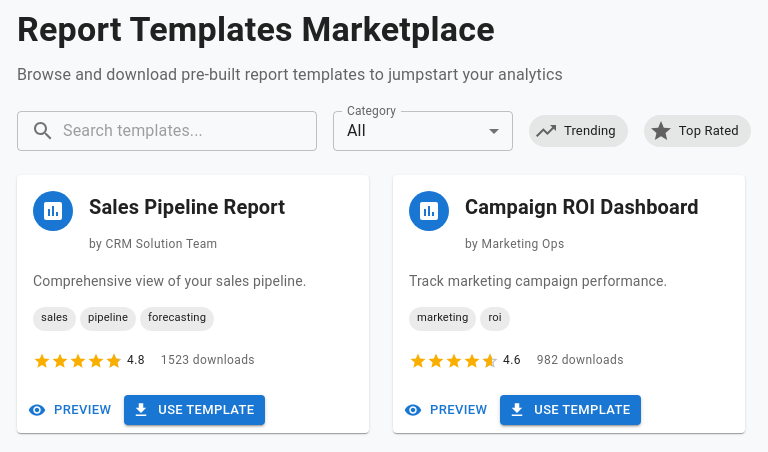
Test case: ReportTemplatesPage › filters templates by search query
Expected: the heading "Sales Pipeline Report" is shown, [89,195,285,219]
Type "campaign" into the field with placeholder "Search templates...".
click(190, 131); type("campaign")  # box [63,111,317,151]
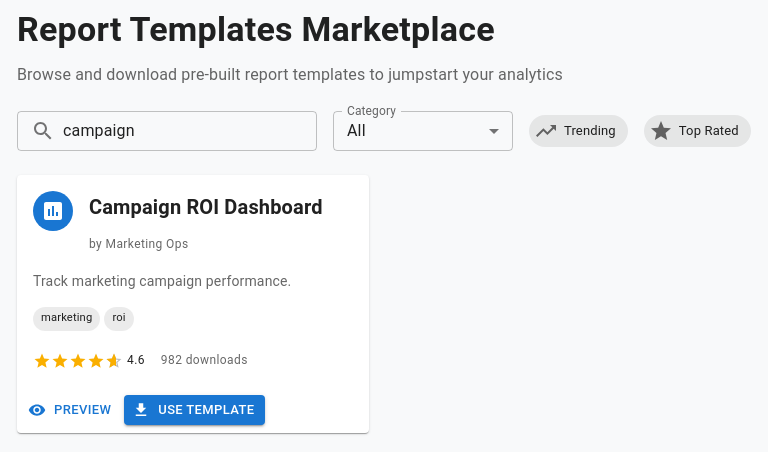
Expected: the heading "Campaign ROI Dashboard" is shown, [89,191,353,223]
Expected: the heading "Sales Pipeline Report" is gone
